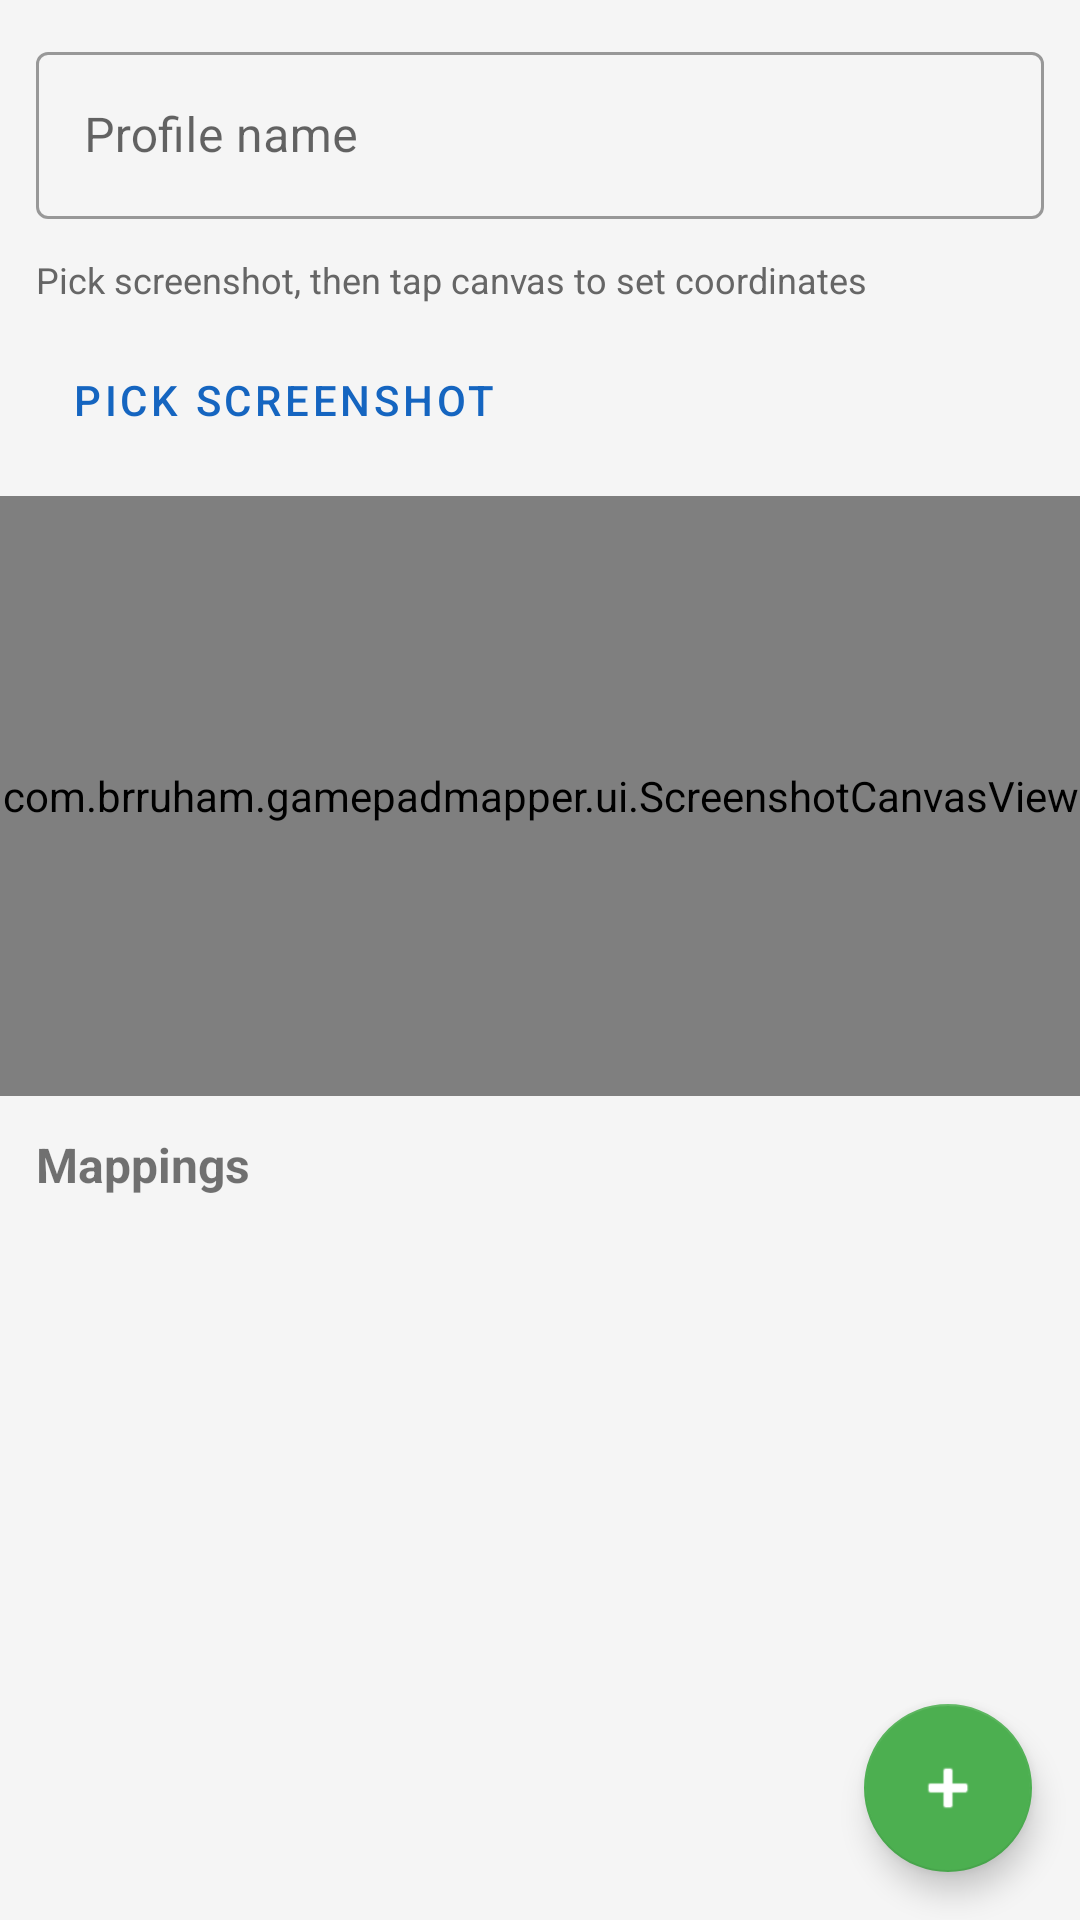

Icon bounding boxes for this 1080px x 1920px phone screenshot, format box=[x1, y1, x2, y2]:
Add Mapping: box=[864, 1704, 1032, 1872]
